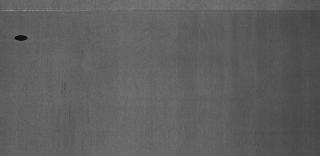punching hole: (13, 32, 33, 44)
welding line: (1, 8, 319, 18)
